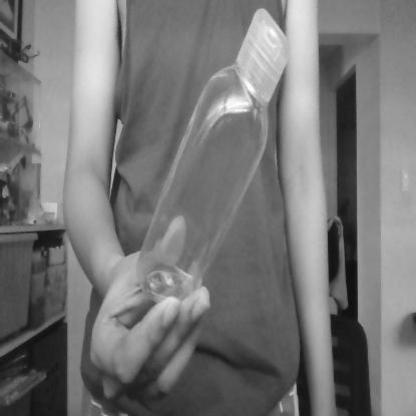Plastic Bottle: (134, 3, 288, 318)
